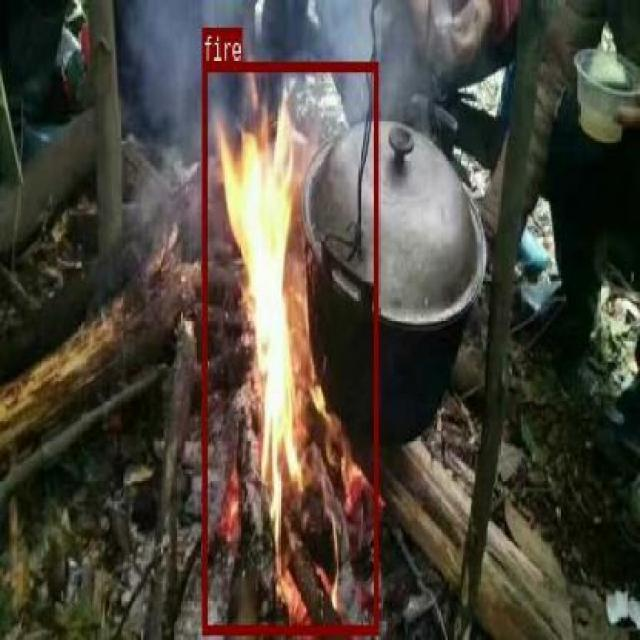Fire: (201, 61, 377, 634)
Smoke: (124, 0, 201, 142), (309, 8, 422, 58)
